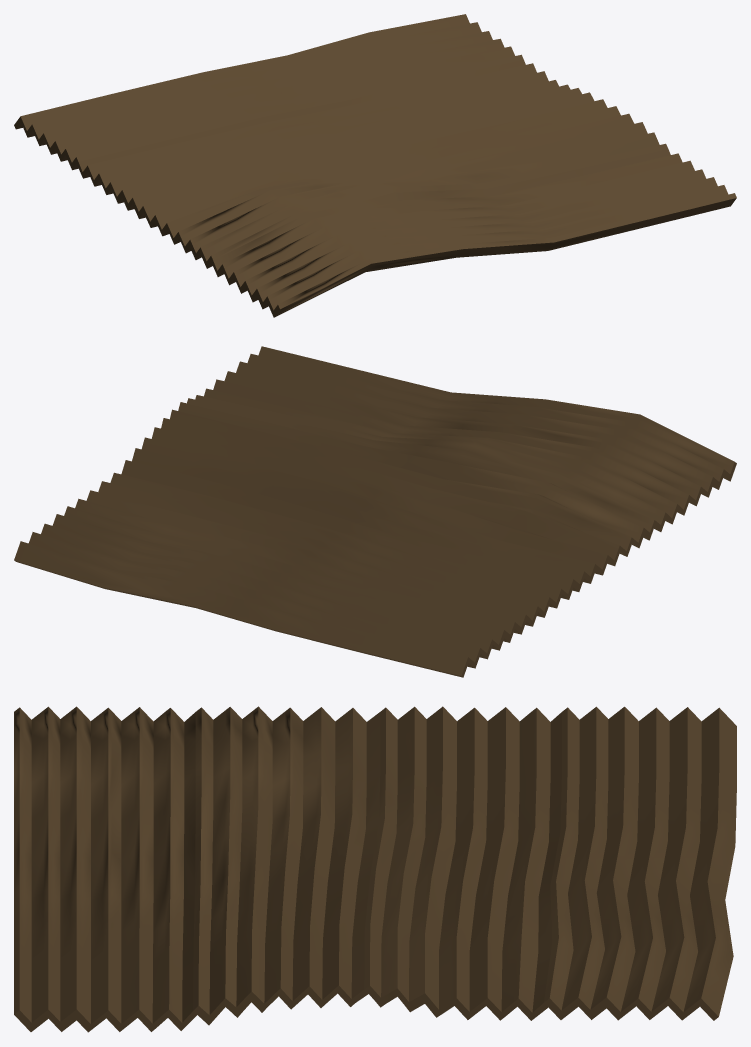
The model's file is cardboard1_mid.fbx.
The picture shows the model from 3 angles, top to bottom: view 1: azimuth 30°, elevation 25°; view 2: azimuth 150°, elevation 25°; view 3: azimuth 270°, elevation 25°; orthographic projection. The views are drawn at different scales.
Visible parts, largest first — view 1: Middle; view 2: Middle; view 3: Middle.
Part boxes in pixels (left/top/right/bottom): Middle: left=14, top=14, right=736, bottom=317; Middle: left=14, top=346, right=736, bottom=677; Middle: left=14, top=706, right=736, bottom=1032.
Size of the model in its own units: 14.72 by 1.26 by 14.85.
